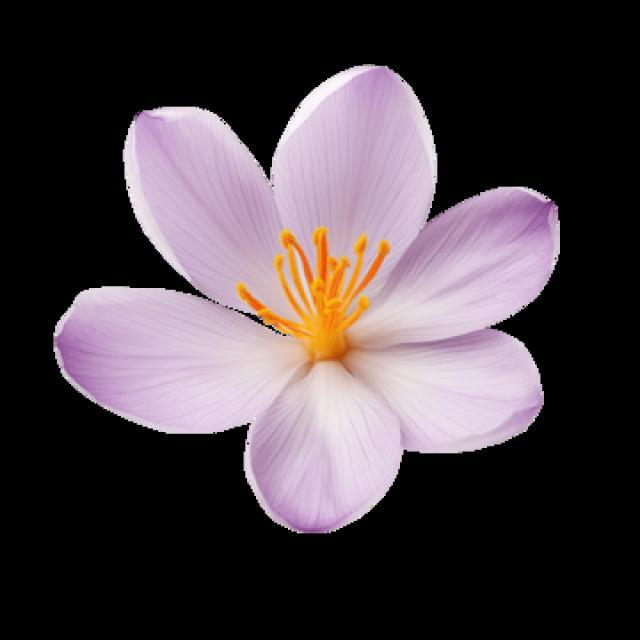Flower: (135, 112, 520, 500)
